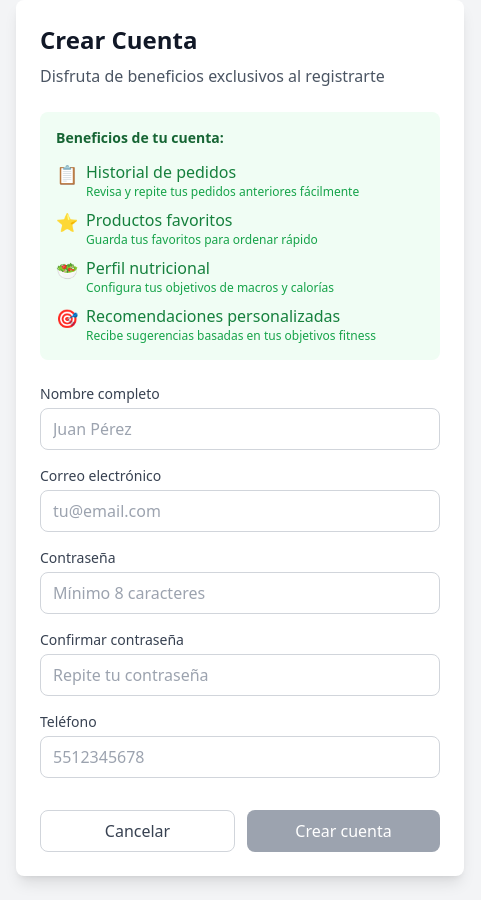
it: RegistrationForm › Validation › should show error for password less than 8 characters
This screenshot has width=481, height=900.
Type "short" into the password field labelled "Contraseña".
click(240, 593); type("short")  # box x1=40 y1=572 x2=440 y2=614
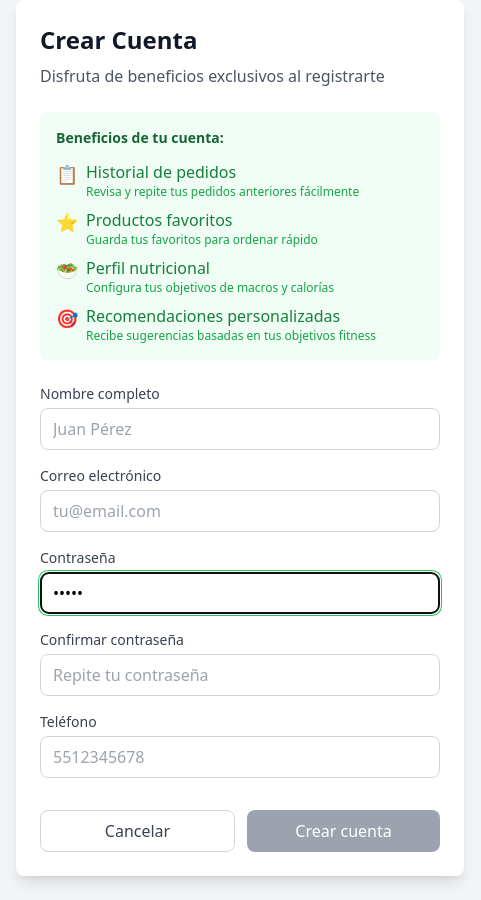
Press Tab
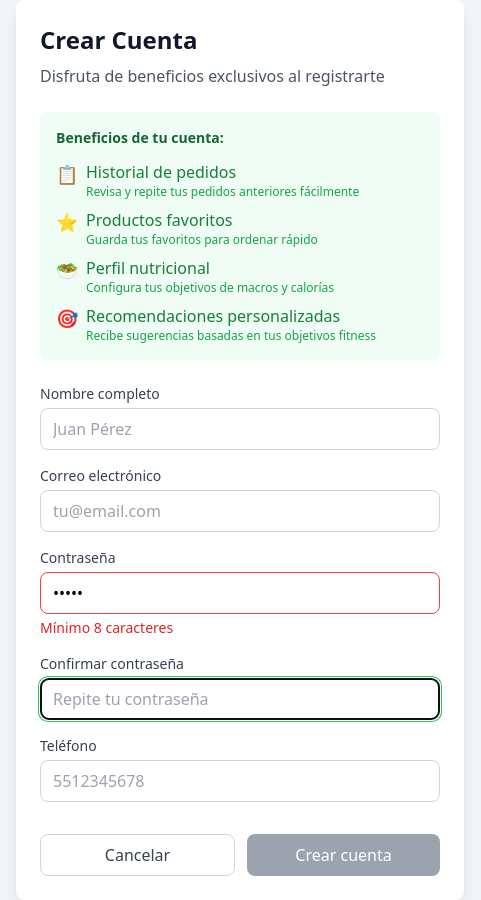
expect the text "Mínimo 8 caracteres" is shown: met, box x1=40 y1=618 x2=173 y2=637
